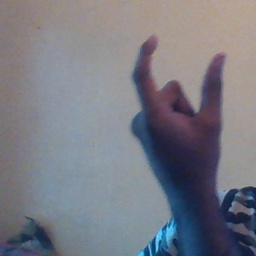U: (131, 30, 240, 168)
